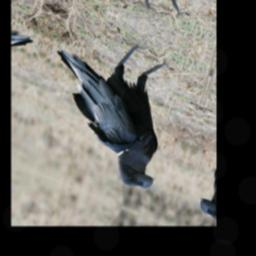Crow: (30, 15, 191, 196)
